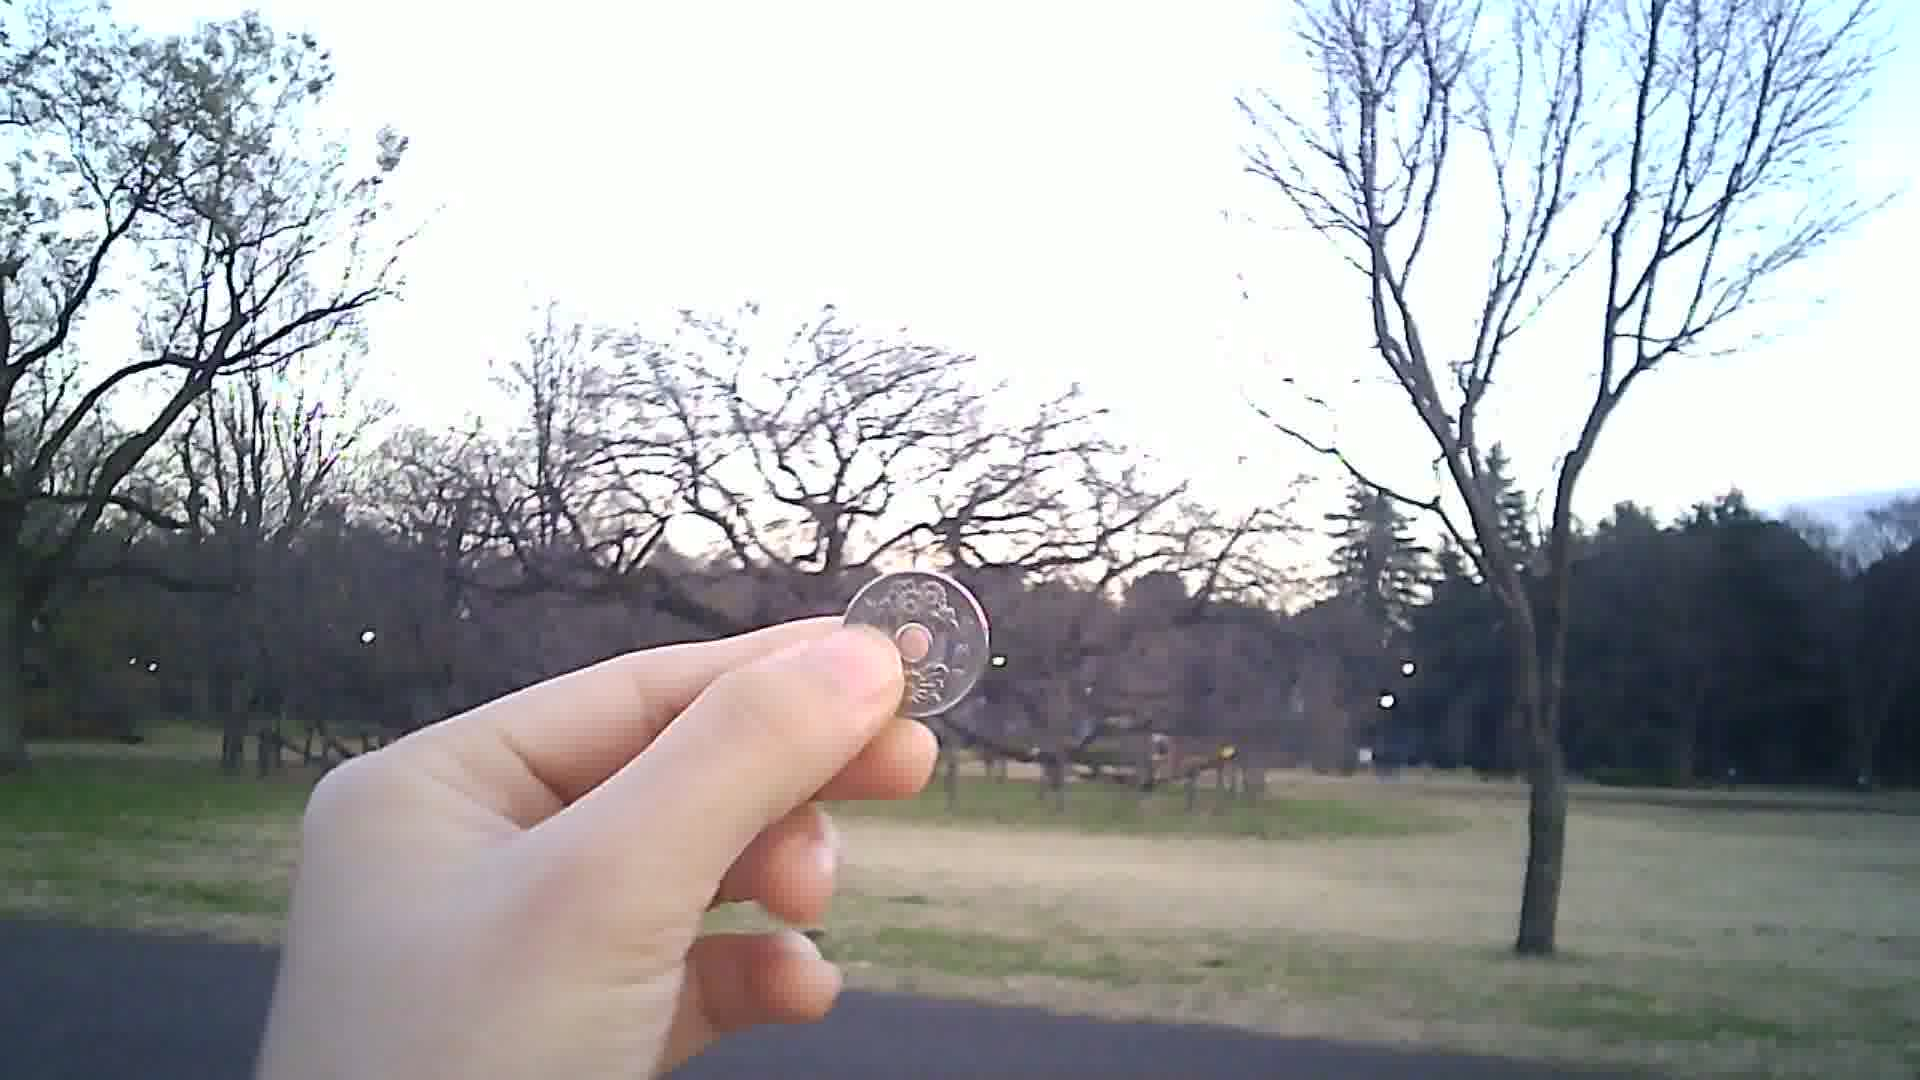50 Yen: (841, 559, 1000, 724)
